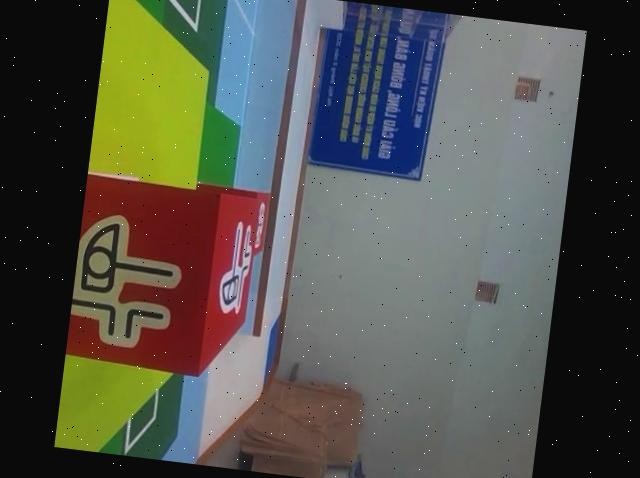R2 Real: (65, 170, 265, 384)
